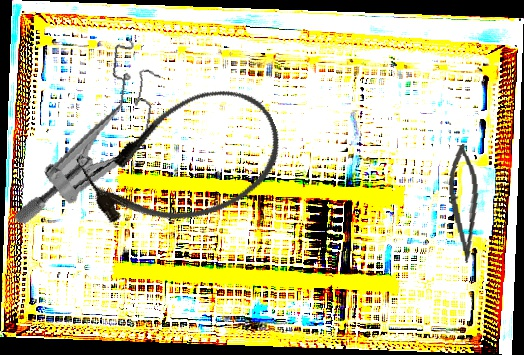Cannula: (72, 70, 297, 253)
Micro Scissor: (444, 143, 486, 264)
Speculum: (10, 23, 171, 245)
